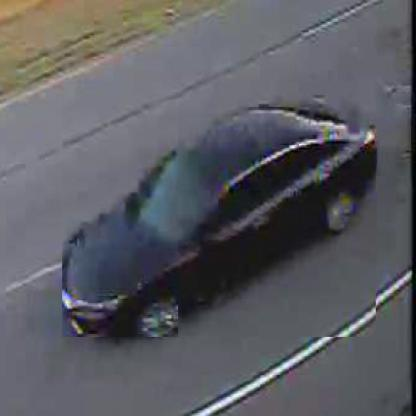car: (62, 101, 377, 340)
